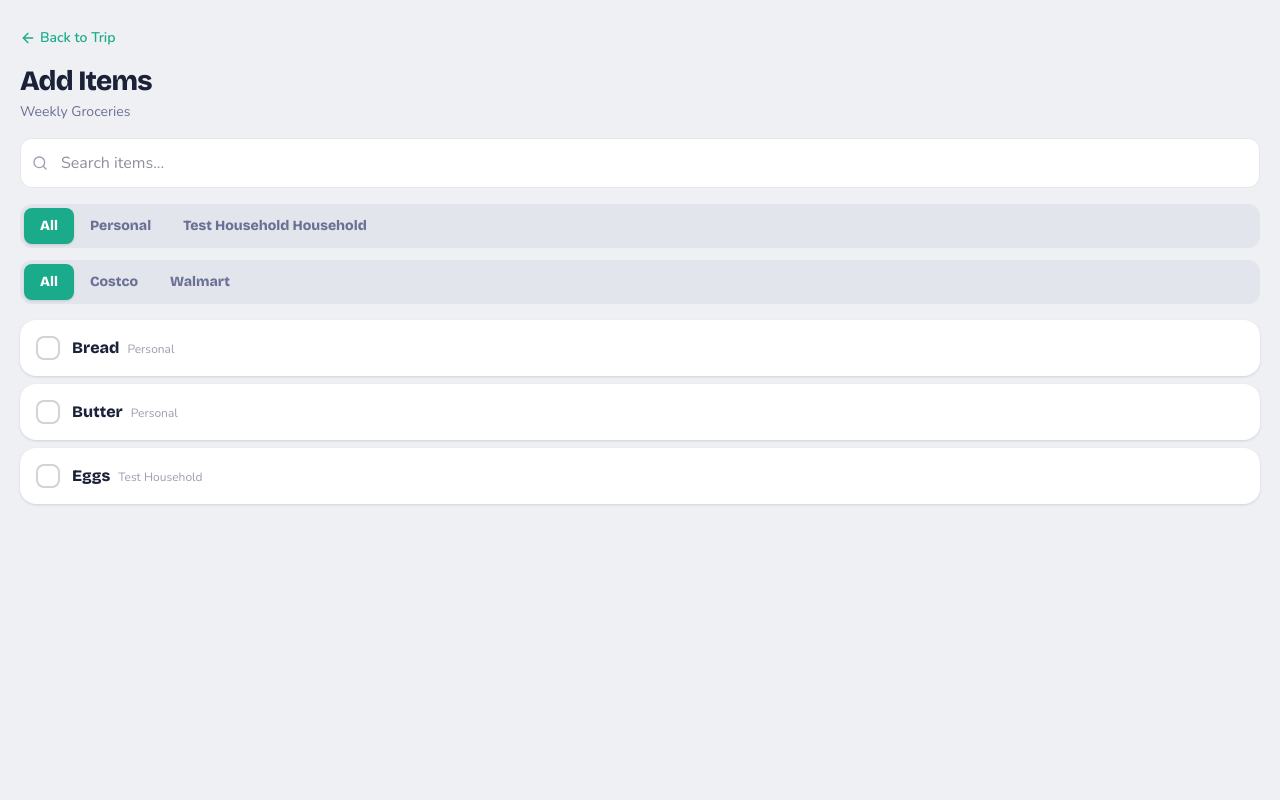
AddTripItemsPage › shows Add Items button with selected count when items are selected
The width and height of the screenshot is (1280, 800).
Expected: the text "Add Items (" is not shown
Click the text "Bread".
click(96, 348)  # box x1=72 y1=338 x2=119 y2=357
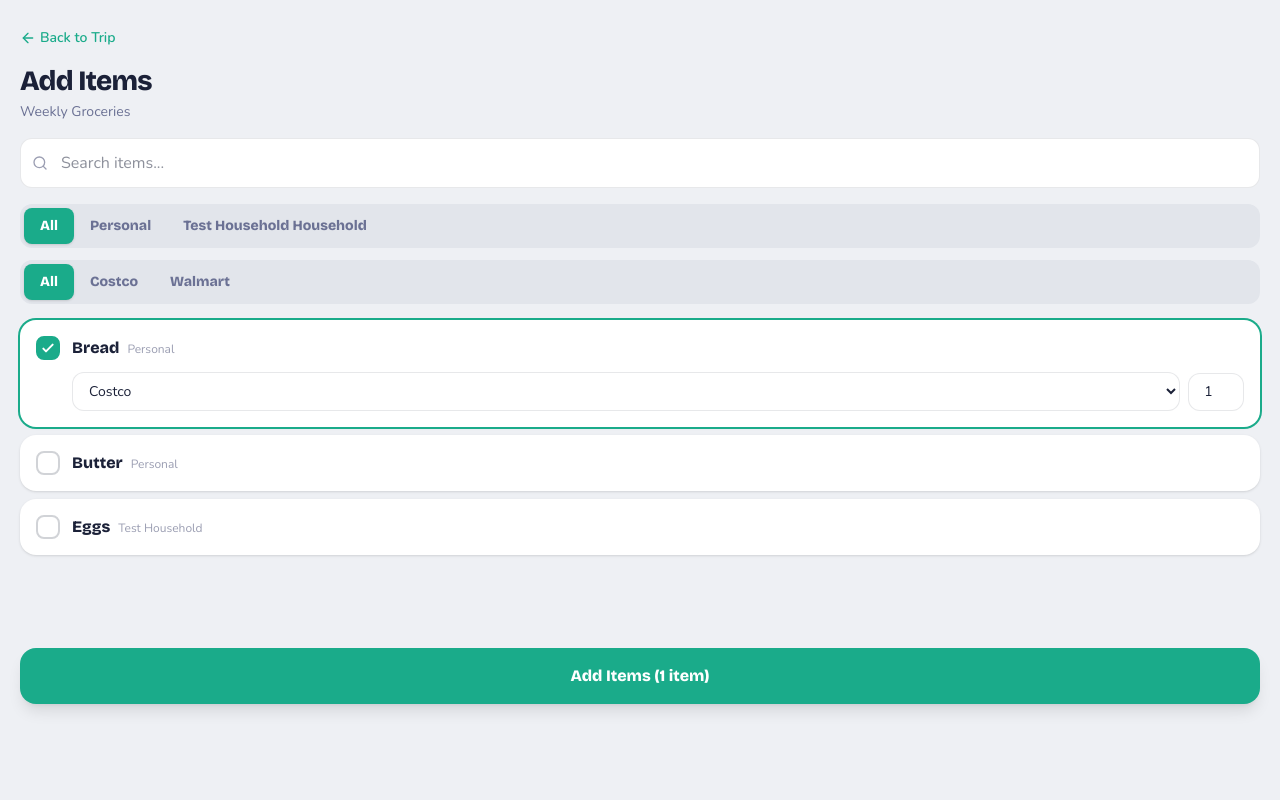
Result: the button "Add Items (1 item)" is shown at x1=20 y1=648 x2=1260 y2=704
Click the text "Eggs".
click(91, 526)  # box x1=72 y1=517 x2=110 y2=536
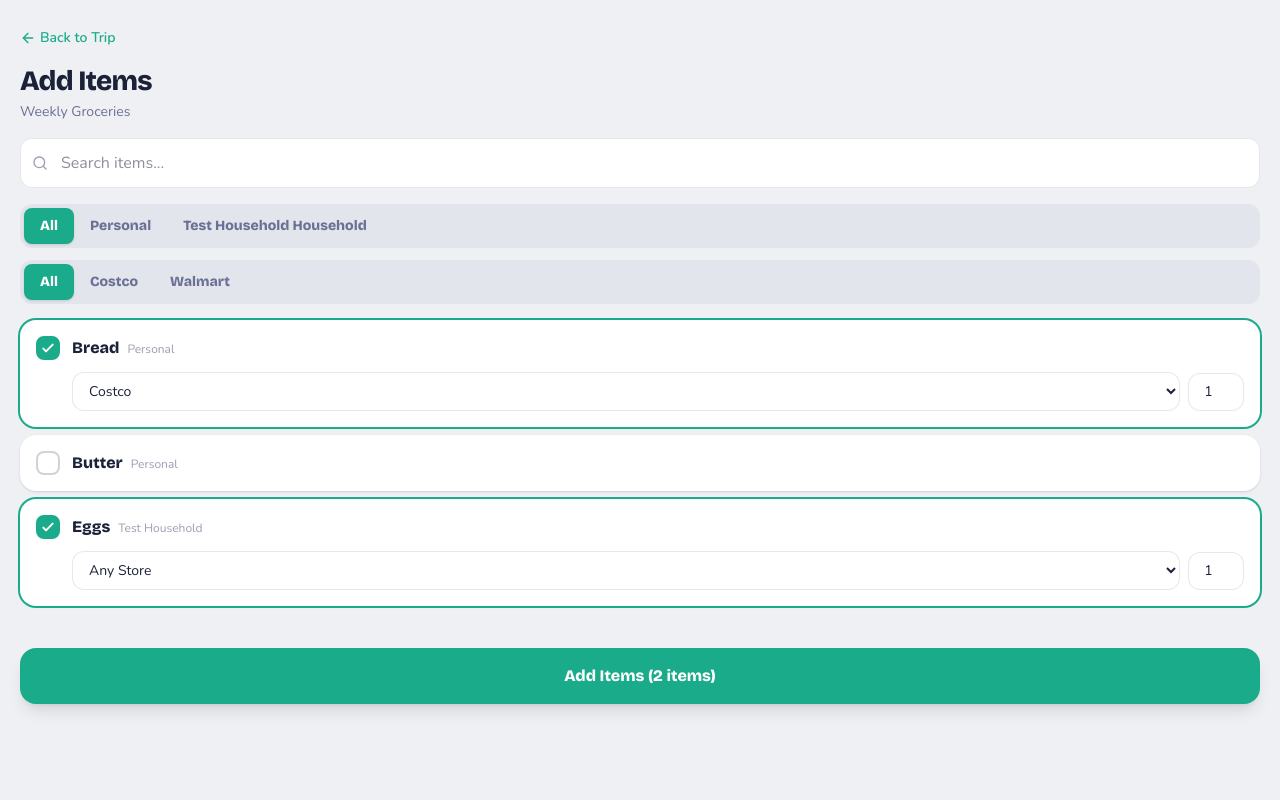
Result: the button "Add Items (2 items)" is shown at x1=20 y1=648 x2=1260 y2=704
